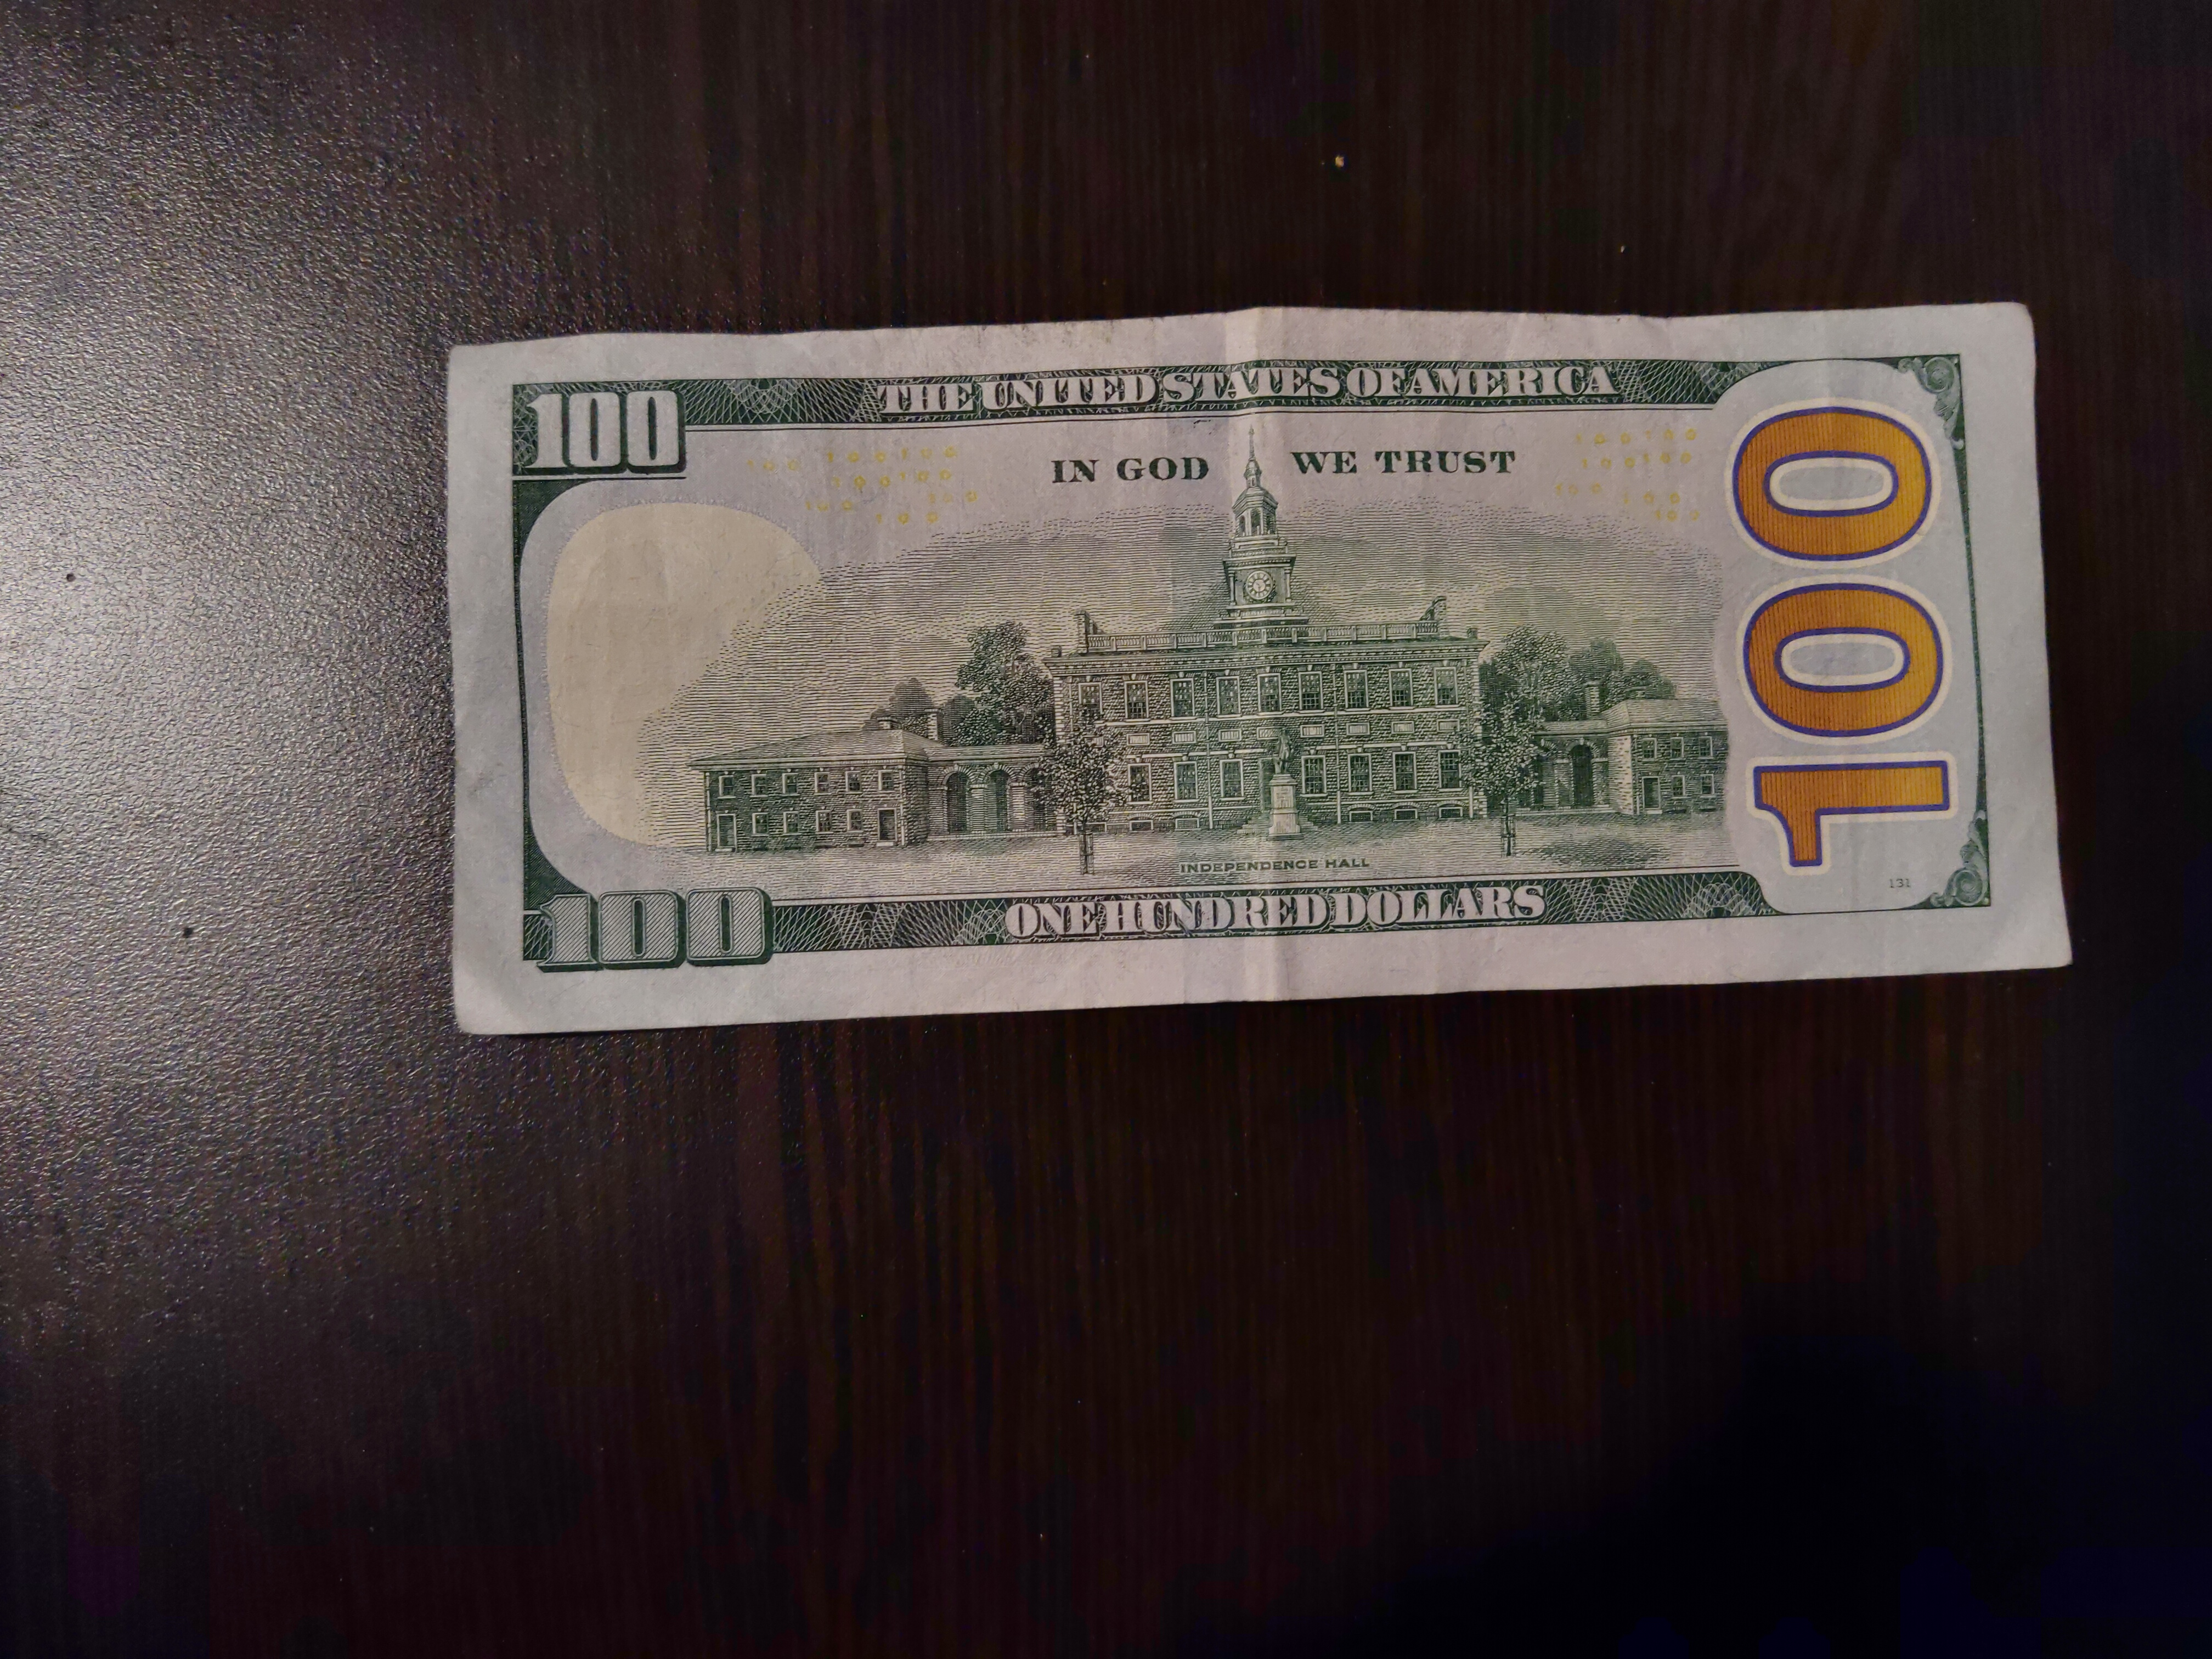HundredBill: (448, 296, 2083, 1044)
